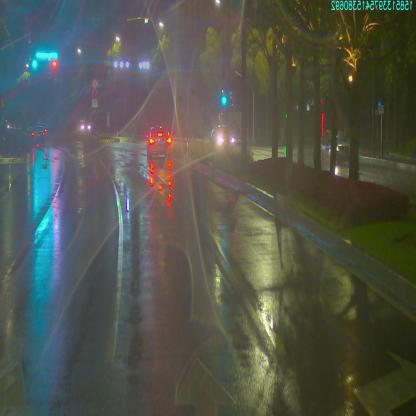traffic-light: (36, 49, 58, 59), (32, 59, 37, 69), (51, 60, 58, 66)
